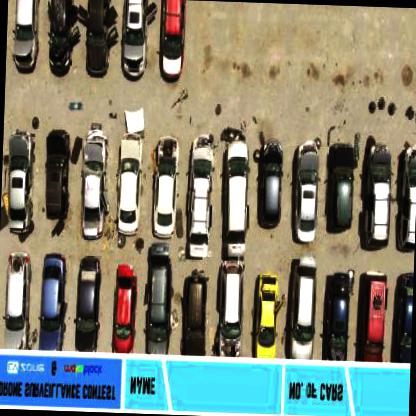car: (78, 124, 110, 240), (186, 135, 214, 257), (37, 254, 67, 352), (290, 138, 318, 243), (42, 127, 70, 226), (2, 251, 29, 350), (116, 140, 142, 242), (216, 260, 244, 354), (326, 136, 354, 230), (290, 256, 316, 356), (73, 256, 100, 352), (256, 138, 284, 228), (152, 138, 177, 238), (325, 270, 351, 359), (118, 0, 147, 79), (395, 141, 415, 252), (10, 0, 40, 74), (158, 0, 186, 79), (83, 0, 111, 76), (253, 274, 276, 350), (397, 269, 413, 358)
